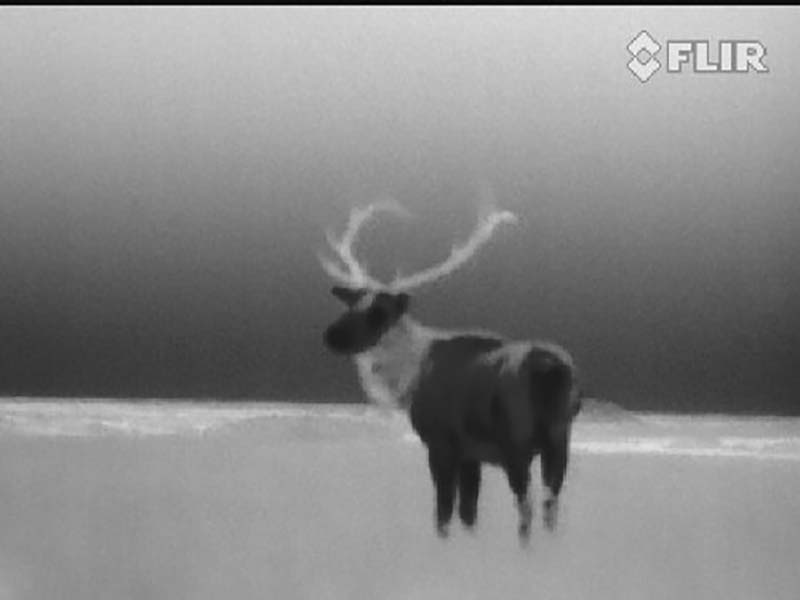cervo: (309, 198, 589, 549)
